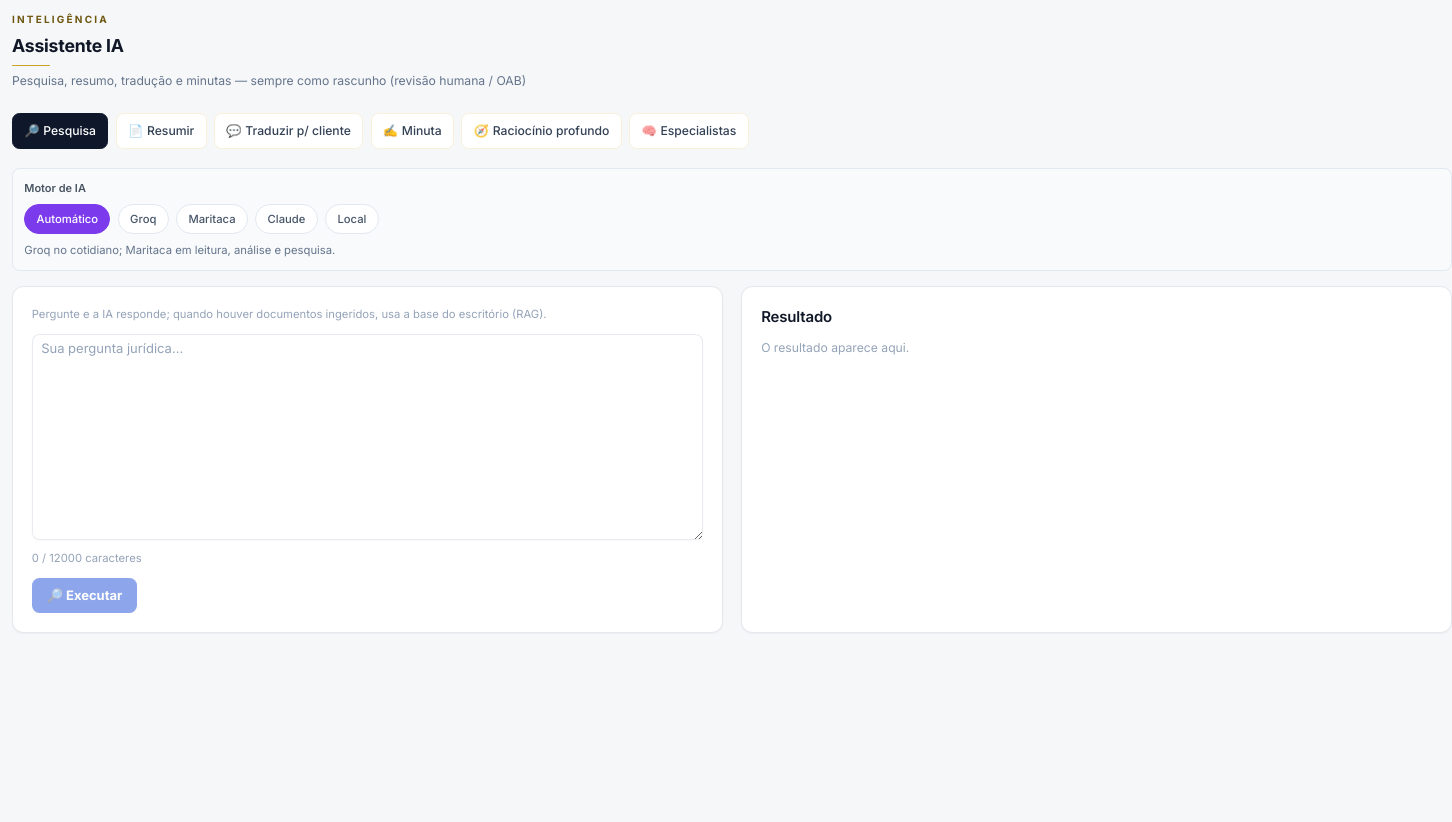
it: AssistenteIA — HITL e fontes visíveis › mostra o aviso de HITL e as fontes do RAG
Type "Qual a tese cabível?" into the text box with placeholder "Sua pergunta jurídica…" at [367, 437], box [32,334,703,540]
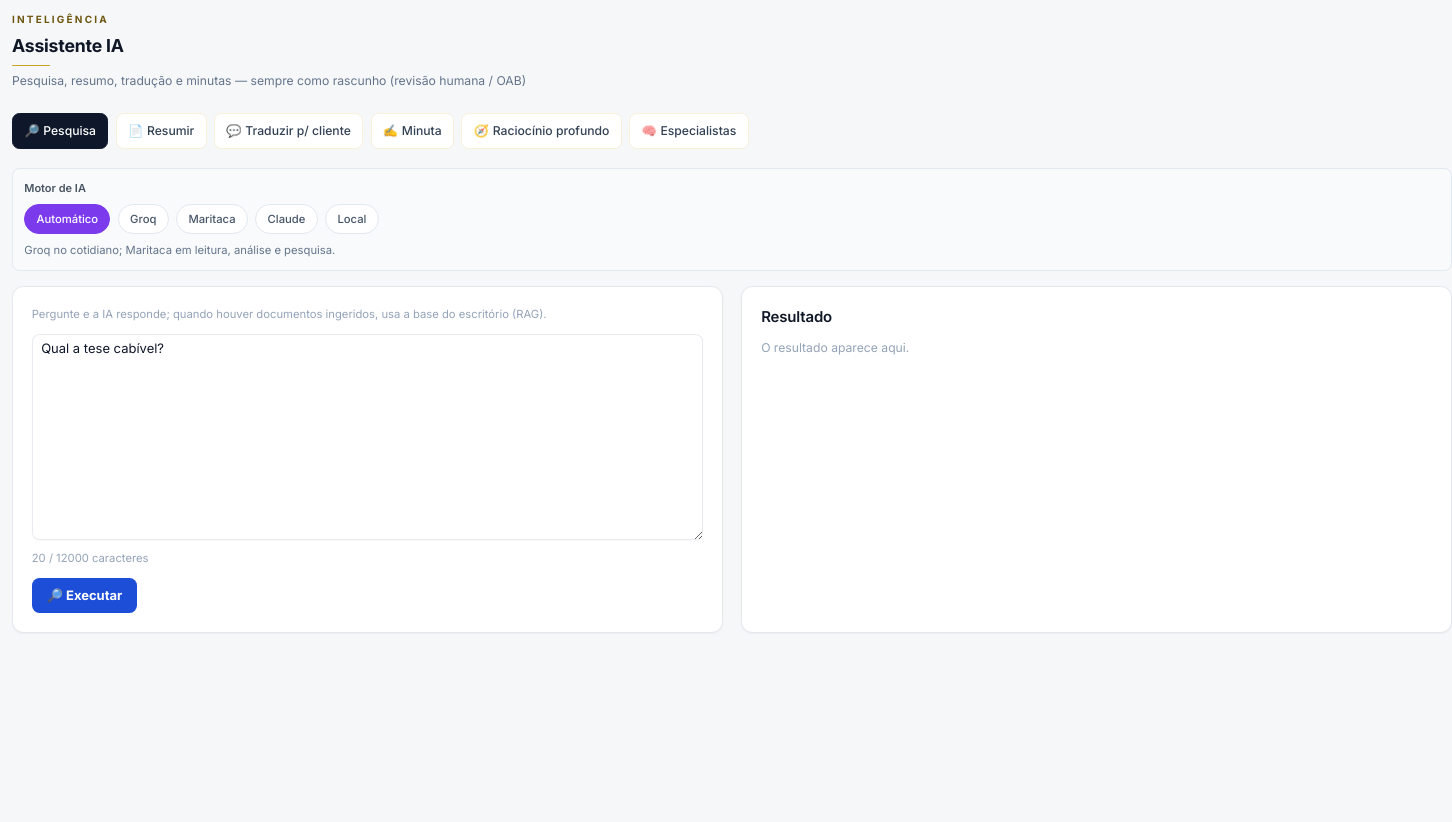
Click the button "🔎 Executar" at [85, 596], box [32,578,137,613]
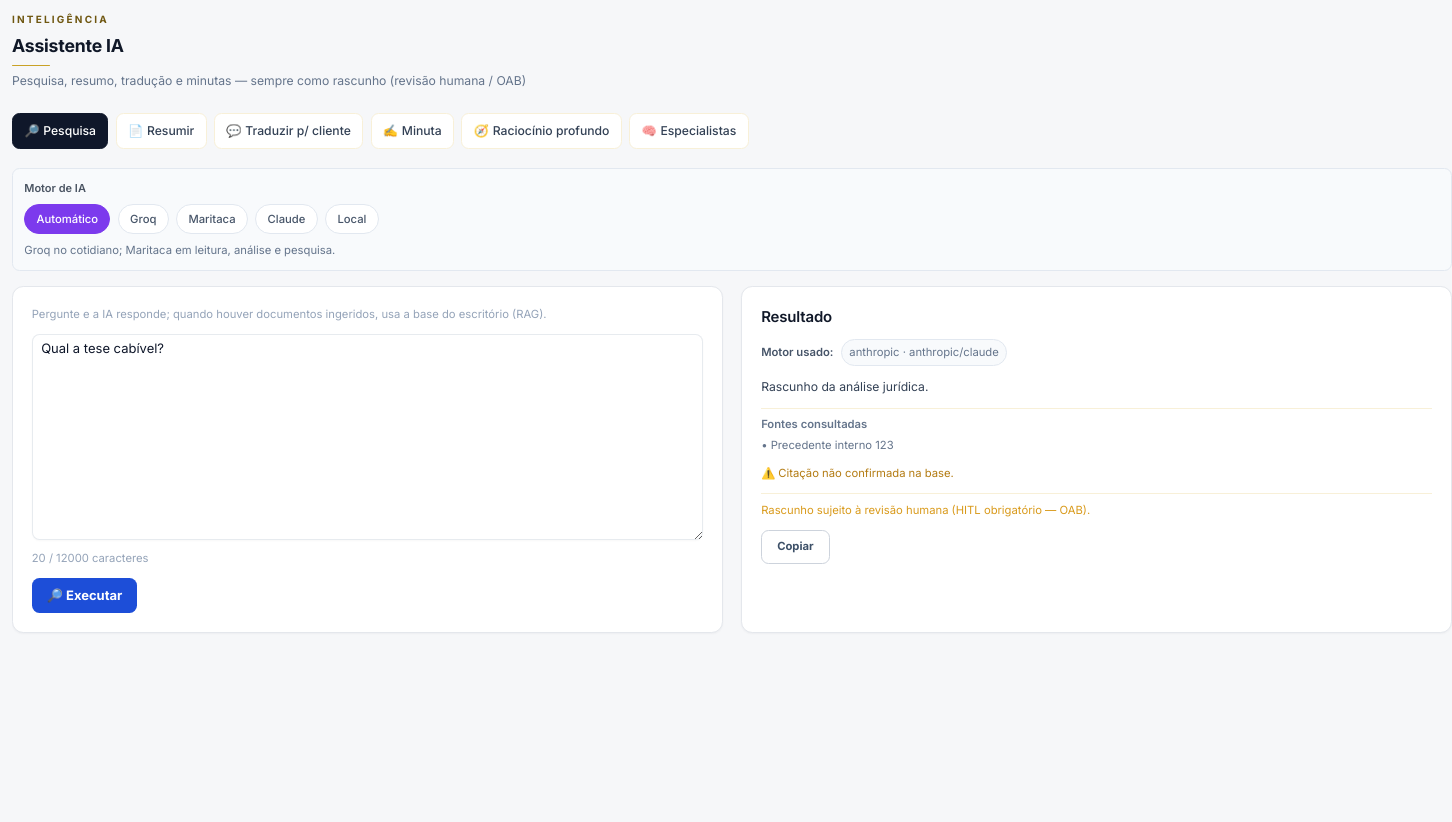
Result: the text with test id "aviso-hitl" shows "revisão humana" at [761,503,1090,517]
Result: the element with test id "fontes-rag" shows "Precedente interno 123" at [771,438,894,452]
Result: the element with test id "motor-ia-usado" shows "anthropic" at [849,345,900,359]
